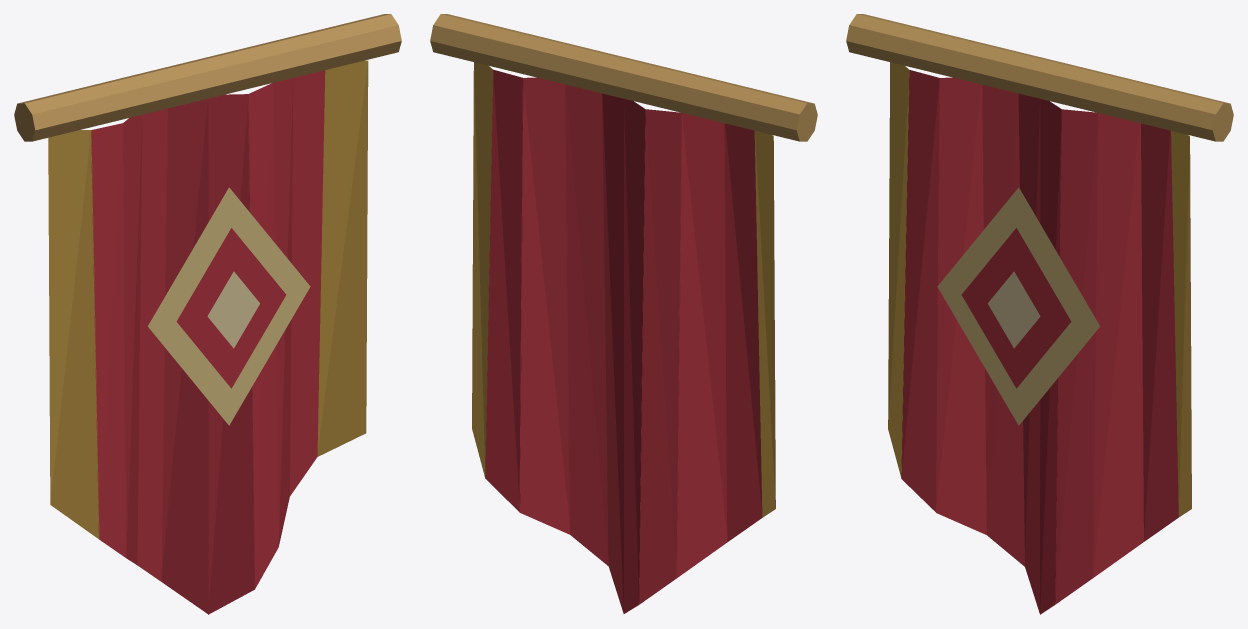
File: Pennant.glb
3 views of the same model, side by side, from view 1: azimuth 30°, elevation 25°; view 2: azimuth 150°, elevation 25°; view 3: azimuth 330°, elevation 25° (orthographic).
Parts seen in each view (by area): view 1: Pennant; view 2: Pennant; view 3: Pennant.
Part boxes in pixels (left/top/right/bottom): Pennant: left=14, top=14, right=401, bottom=614; Pennant: left=430, top=14, right=817, bottom=613; Pennant: left=846, top=14, right=1233, bottom=614.
Size of the model in its own units: 0.9 by 1.3 by 0.1773.
